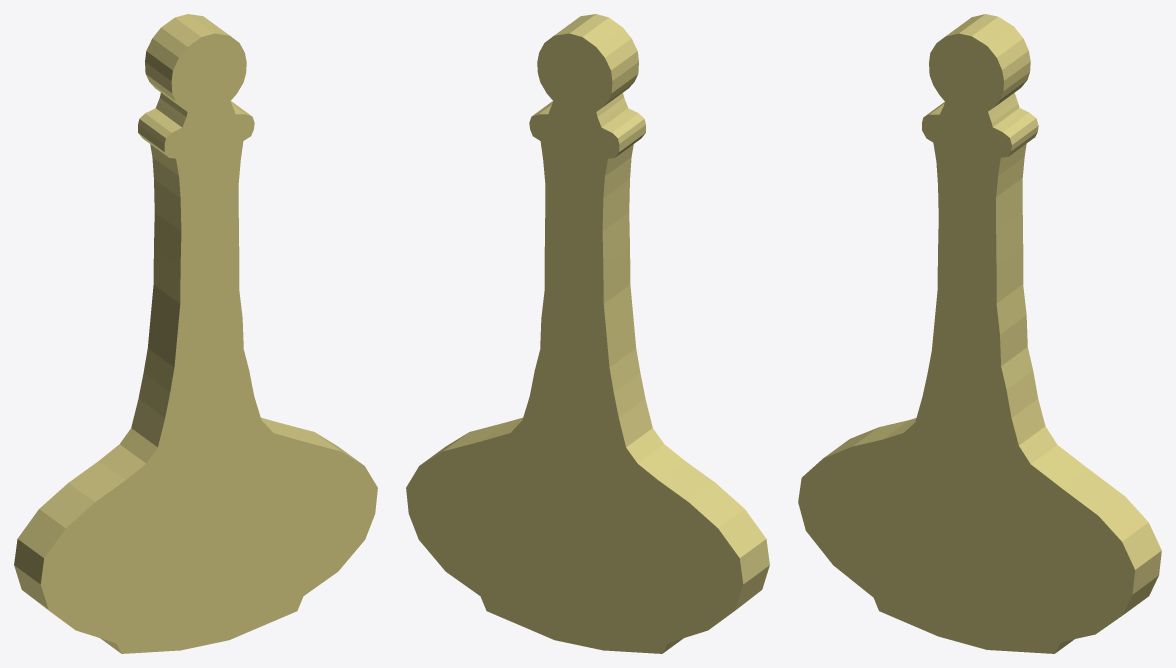
Rendered from Potion_3.fbx.
3 views of the same model, side by side, from view 1: azimuth 30°, elevation 25°; view 2: azimuth 150°, elevation 25°; view 3: azimuth 330°, elevation 25° (orthographic).
Parts seen in each view (by area): view 1: pPlane27; view 2: pPlane27; view 3: pPlane27.
Boxes of the visible parts, x1,y1,x2,y2 form: pPlane27: (14,14,377,653); pPlane27: (406,14,769,653); pPlane27: (798,14,1161,653).
Size of the model in its own units: 0.2147 by 0.3713 by 0.0294.
